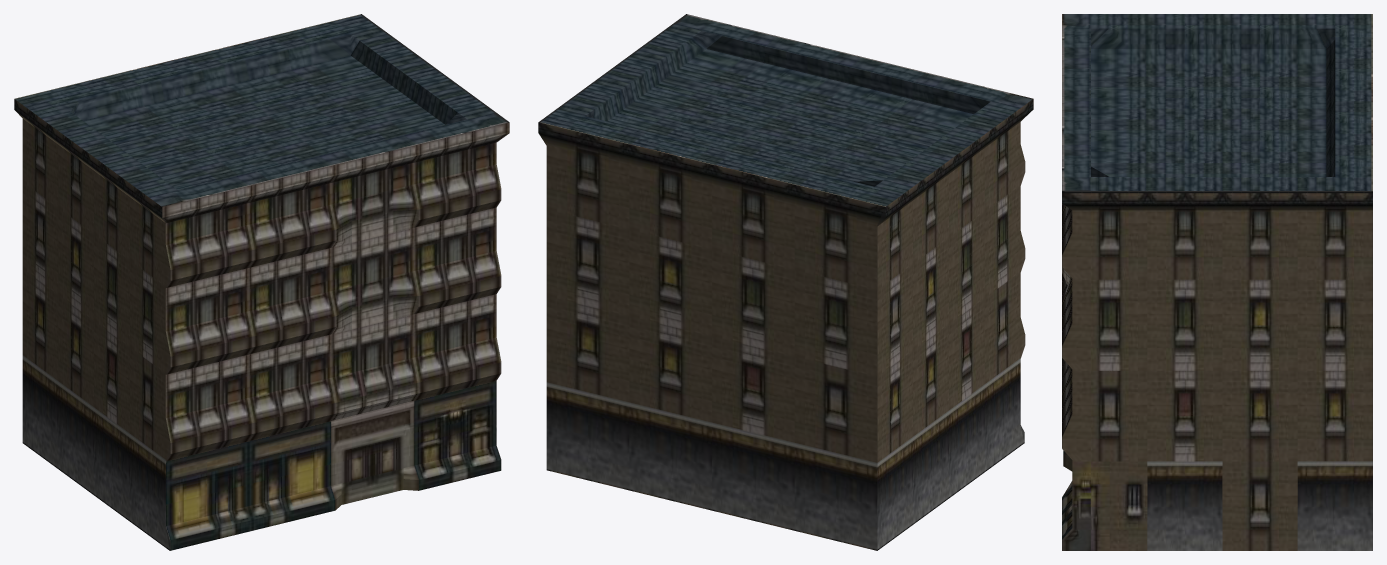
Rendered from building05.fbx.
3 views of the same model, side by side, from view 1: azimuth 30°, elevation 25°; view 2: azimuth 150°, elevation 25°; view 3: azimuth 270°, elevation 25° (orthographic). The views are drawn at different scales.
Visible parts, largest first — view 1: Cube; view 2: Cube; view 3: Cube.
Boxes of the visible parts, x1,y1,x2,y2 form: Cube: (14,14,509,550); Cube: (538,14,1033,550); Cube: (1062,14,1372,550).
Bounding box in the file's own units: 4200 × 4000 × 3100.
Materials: 1 (1 with a texture image).
